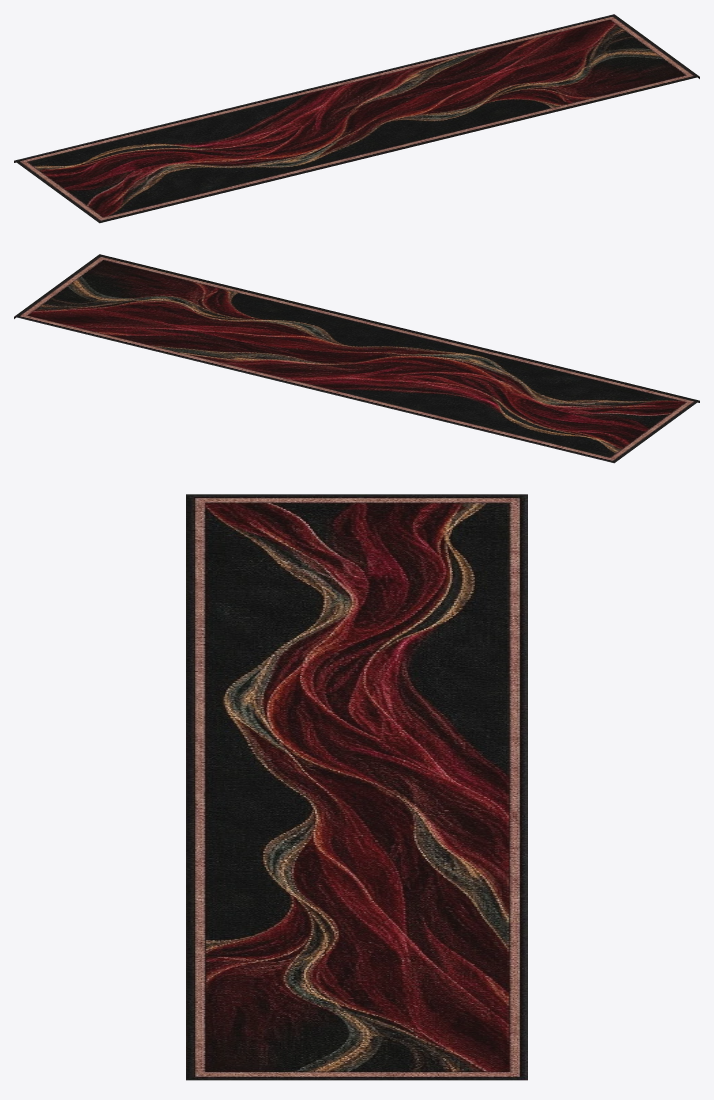
The model's file is NX-11_runner_game.glb.
3 views of the same model, one above another, from view 1: azimuth 30°, elevation 25°; view 2: azimuth 150°, elevation 25°; view 3: azimuth 270°, elevation 25° (orthographic). The views are drawn at different scales.
Visible parts, largest first — view 1: NX-11_runner; view 2: NX-11_runner; view 3: NX-11_runner.
Part boxes in pixels (x1=…): NX-11_runner: x1=14, y1=14, x2=699, y2=223; NX-11_runner: x1=14, y1=254, x2=699, y2=463; NX-11_runner: x1=186, y1=494, x2=527, y2=1080.
Size of the model in its own units: 3 by 0.012 by 0.7406.
1 material, 1 textured.
